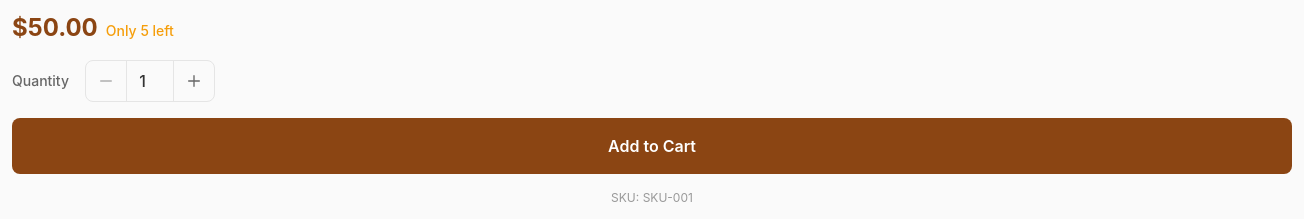
Test: AddToCart › inventory quantity validation › caps manual input to available inventory
Replace the text in the number field with "10" at (150, 81), box [126, 61, 174, 101]
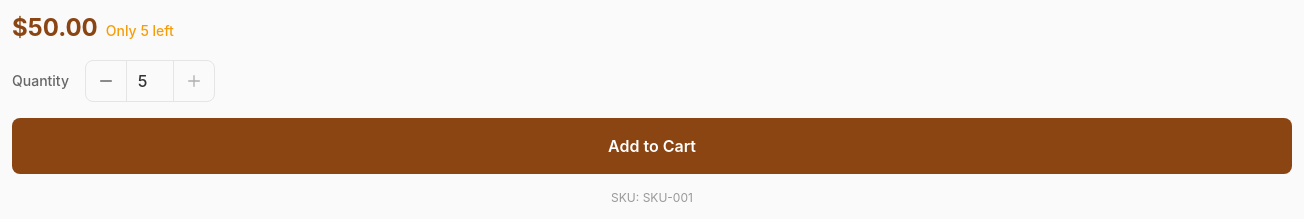
Check: the number field holds "5", box [126, 61, 174, 101]
